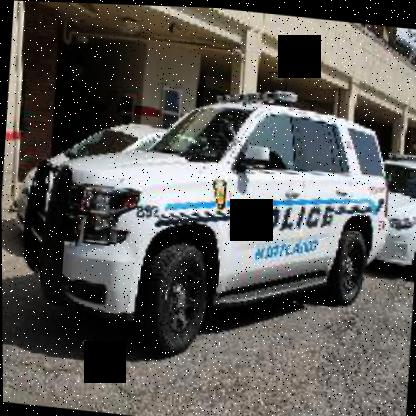emergency: (12, 60, 399, 379)
